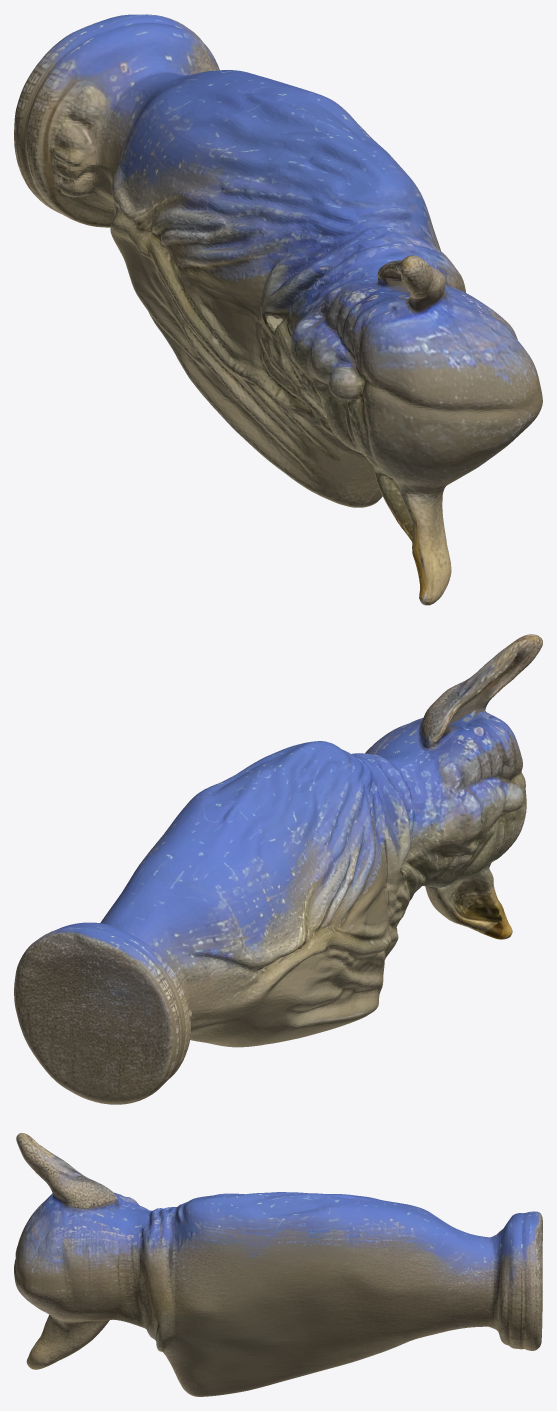
Rendered from yoda-bust.glb.
3 renders of one model, top to bottom at view 1: azimuth 30°, elevation 25°; view 2: azimuth 150°, elevation 25°; view 3: azimuth 270°, elevation 25°, orthographic. The views are drawn at different scales.
Visible parts, largest first — view 1: yoda bust_textured.obj; view 2: yoda bust_textured.obj; view 3: yoda bust_textured.obj.
Boxes of the visible parts, left/top/right/bottom form: yoda bust_textured.obj: left=14, top=14, right=542, bottom=605; yoda bust_textured.obj: left=14, top=634, right=542, bottom=1104; yoda bust_textured.obj: left=14, top=1133, right=542, bottom=1396.
Bounding box in the file's own units: 0.6563 × 0.9654 × 1.98.
Materials: 1 (1 with a texture image).
